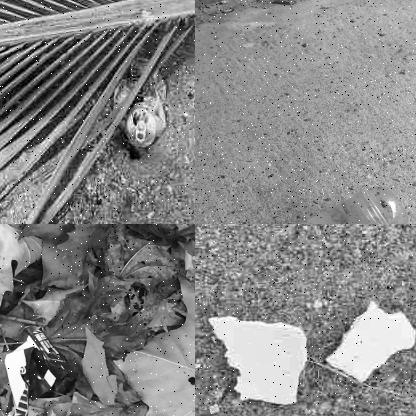plastic: (207, 316, 310, 408), (321, 296, 415, 387), (0, 324, 77, 415), (110, 49, 172, 149), (289, 184, 409, 223)
